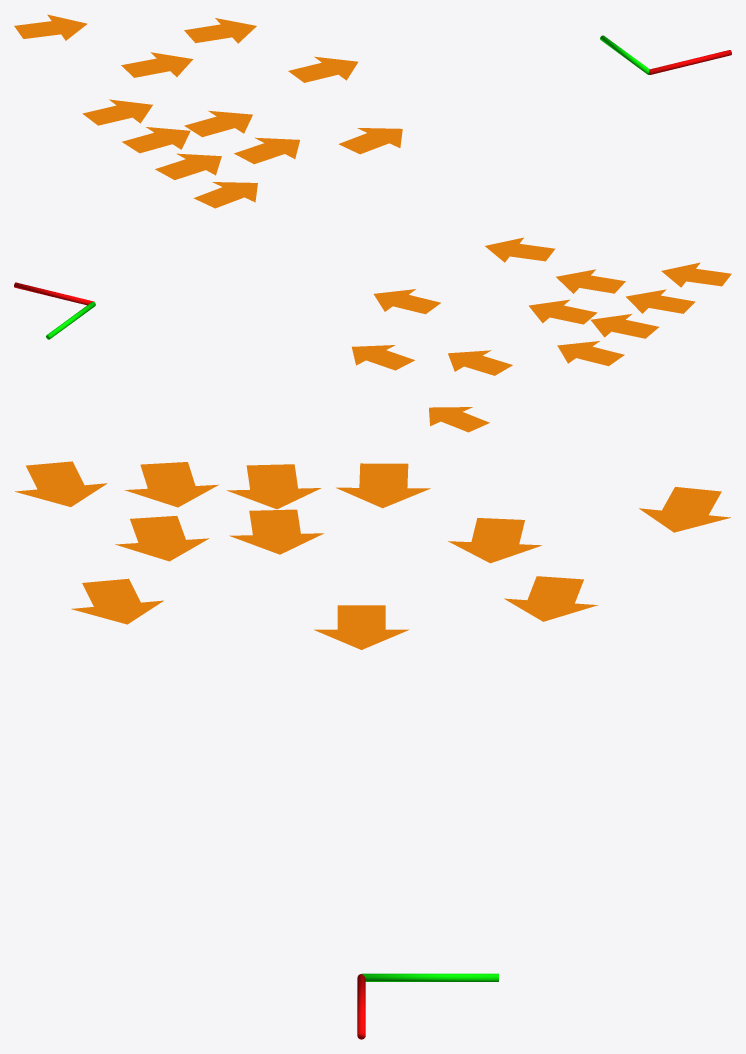
The model's file is CR3_markers_cameras.fbx.
3 views of the same model, one above another, from view 1: azimuth 30°, elevation 25°; view 2: azimuth 150°, elevation 25°; view 3: azimuth 270°, elevation 25° (orthographic). The views are drawn at different scales.
Visible parts, largest first — view 1: MARK_Viola, MARK_Horn2, MARK_ViolinI, MARK_Clarinet, MARK_Contrabass, MARK_Flute, MARK_Horn1, MARK_ViolinII, MARK_Bassoon, MARK_Singer, MARK_Cello, AXIS_plus_x_to_audience (+1 smaller); view 2: MARK_Cello, MARK_Horn2, MARK_Bassoon, MARK_Viola, MARK_Clarinet, MARK_Singer, MARK_ViolinII, MARK_ViolinI, MARK_Contrabass, MARK_Flute, MARK_Horn1, AXIS_plus_x_to_audience (+1 smaller); view 3: MARK_Singer, MARK_Bassoon, MARK_Flute, MARK_Horn2, MARK_ViolinII, MARK_Cello, MARK_Viola, MARK_ViolinI, MARK_Clarinet, MARK_Horn1, MARK_Contrabass, AXIS_plus_y_right_seen_from_audience.
Part boxes in pixels (bbox=[...]): MARK_Viola: bbox=[121, 52, 193, 77]; MARK_Horn2: bbox=[193, 182, 257, 208]; MARK_ViolinI: bbox=[338, 128, 402, 154]; MARK_Clarinet: bbox=[122, 127, 190, 153]; MARK_Contrabass: bbox=[14, 14, 87, 40]; MARK_Flute: bbox=[184, 110, 252, 137]; MARK_Horn1: bbox=[155, 153, 221, 179]; MARK_ViolinII: bbox=[234, 137, 299, 164]; MARK_Bassoon: bbox=[82, 99, 152, 125]; MARK_Singer: bbox=[288, 56, 358, 82]; MARK_Cello: bbox=[184, 18, 256, 43]; AXIS_plus_x_to_audience: bbox=[649, 50, 731, 74]; MARK_Cello: bbox=[352, 345, 414, 370]; MARK_Horn2: bbox=[661, 262, 731, 287]; MARK_Bassoon: bbox=[557, 341, 624, 366]; MARK_Viola: bbox=[448, 350, 512, 375]; MARK_Clarinet: bbox=[590, 314, 658, 338]; MARK_Singer: bbox=[373, 289, 440, 314]; MARK_ViolinII: bbox=[556, 269, 625, 293]; MARK_ViolinI: bbox=[485, 237, 555, 262]; MARK_Contrabass: bbox=[429, 407, 489, 432]; MARK_Flute: bbox=[529, 299, 597, 324]; MARK_Horn1: bbox=[626, 289, 695, 313]; AXIS_plus_x_to_audience: bbox=[14, 282, 94, 305]; MARK_Singer: bbox=[314, 605, 409, 649]; MARK_Bassoon: bbox=[336, 463, 430, 508]; MARK_Flute: bbox=[229, 509, 323, 554]; MARK_Horn2: bbox=[15, 461, 107, 506]; MARK_ViolinII: bbox=[115, 516, 209, 561]; MARK_Cello: bbox=[504, 576, 598, 621]; MARK_Viola: bbox=[448, 518, 542, 563]; MARK_ViolinI: bbox=[71, 578, 163, 624]; MARK_Clarinet: bbox=[226, 464, 321, 509]; MARK_Horn1: bbox=[124, 462, 218, 507]; MARK_Contrabass: bbox=[639, 487, 730, 532]; AXIS_plus_y_right_seen_from_audience: bbox=[362, 973, 498, 981].
Bounding box in the file's own units: 7.83 × 0.99 × 5.22.
